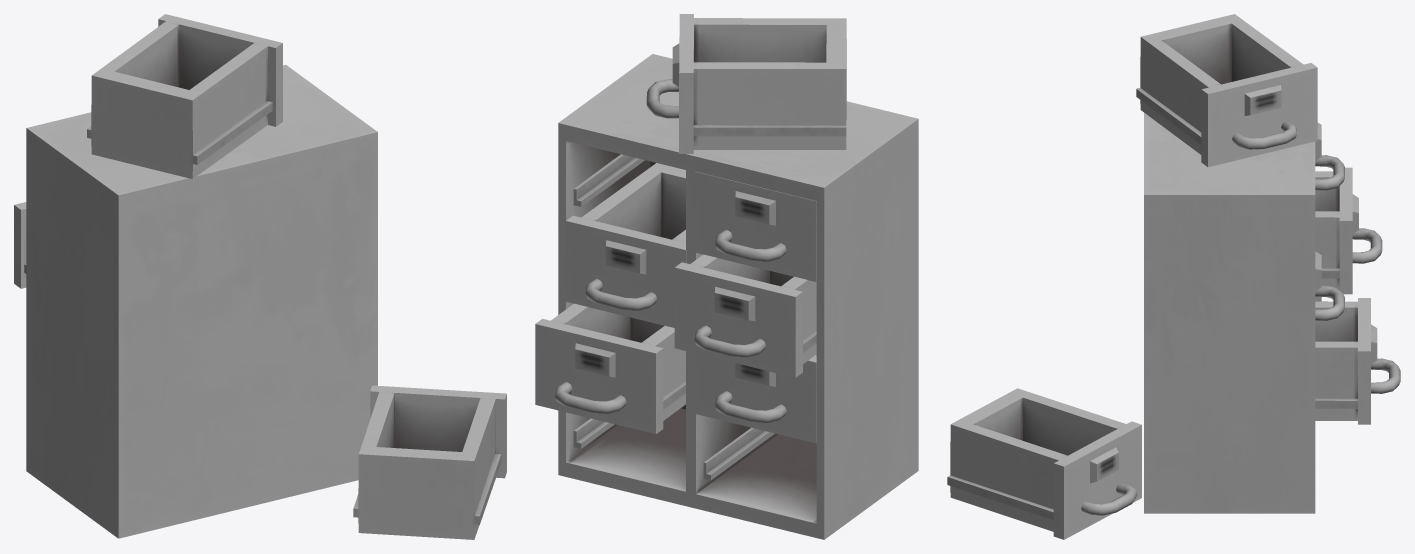
Rendered from Pfb_FileCabient_L.fbx.
3 views of the same model, side by side, from view 1: azimuth 30°, elevation 25°; view 2: azimuth 150°, elevation 25°; view 3: azimuth 270°, elevation 25° (orthographic). The views are drawn at different scales.
Parts seen in each view (by area): view 1: Mat_FileCabient 1; view 2: Mat_FileCabient 1; view 3: Mat_FileCabient 1.
Part boxes in pixels (<box>): Mat_FileCabient 1: <box>14,14,506,539</box>; Mat_FileCabient 1: <box>535,14,918,539</box>; Mat_FileCabient 1: <box>947,14,1400,539</box>.
Bounding box in the file's own units: 1.66 × 1.94 × 2.04.
1 material, 1 textured.
